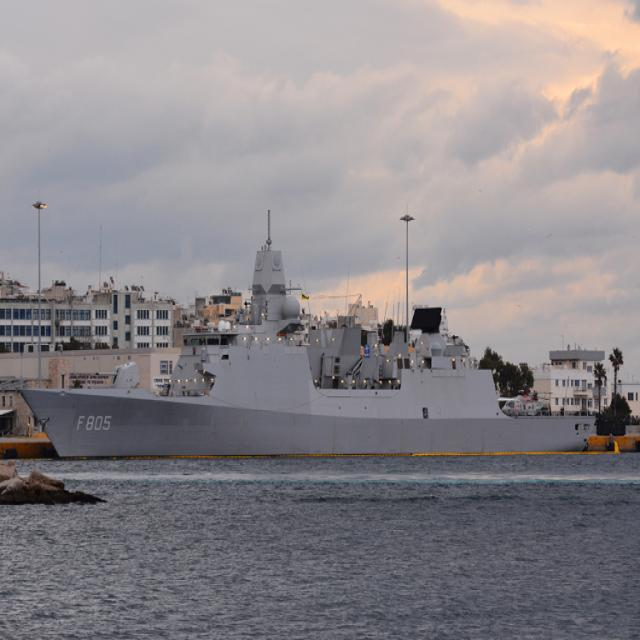Fragata: (14, 199, 614, 470)
